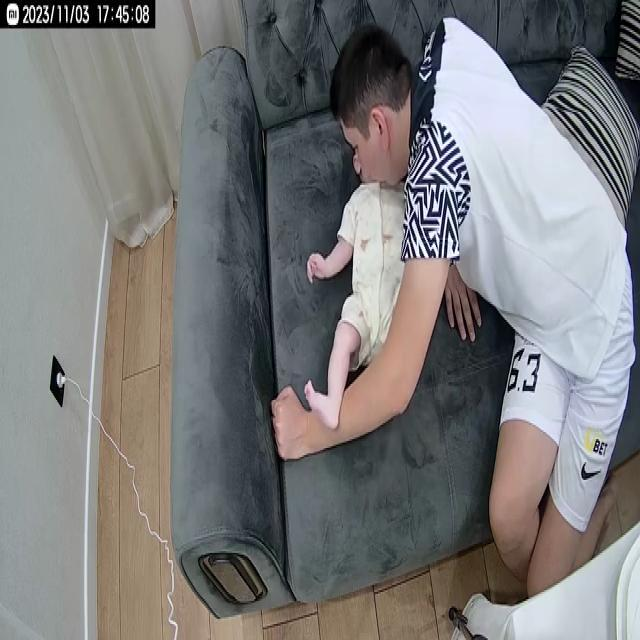baby: (303, 178, 422, 438)
